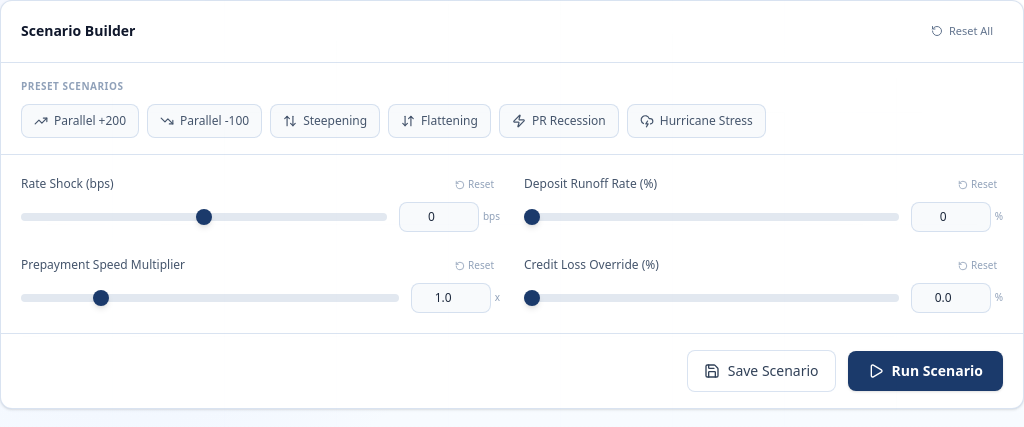
Test: ScenarioInput › preset buttons set correct values › clicking "Parallel -100" sets rate shock to -100
The image size is (1024, 427).
Click the button with test id "preset-parallel_down_100" at (205, 120), box 147,104 -> 262,138
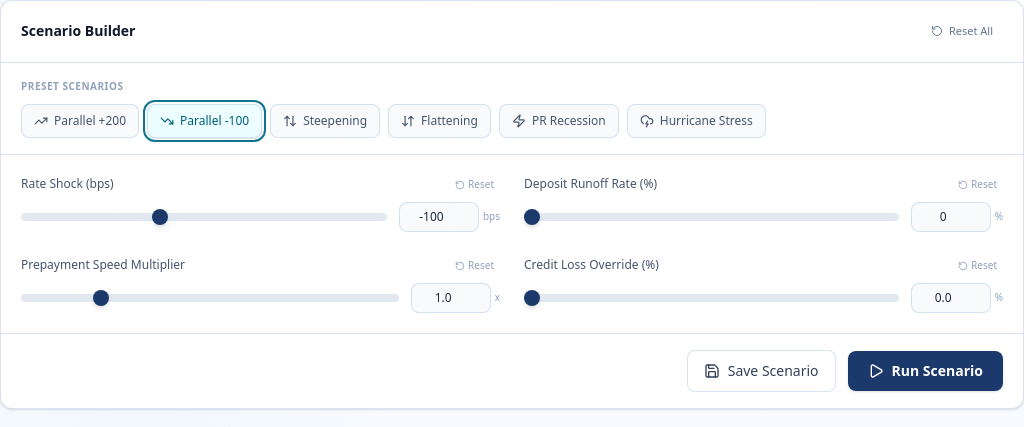
Expected: the slider named "rate shock" holds "-100", 21,212 -> 387,220
